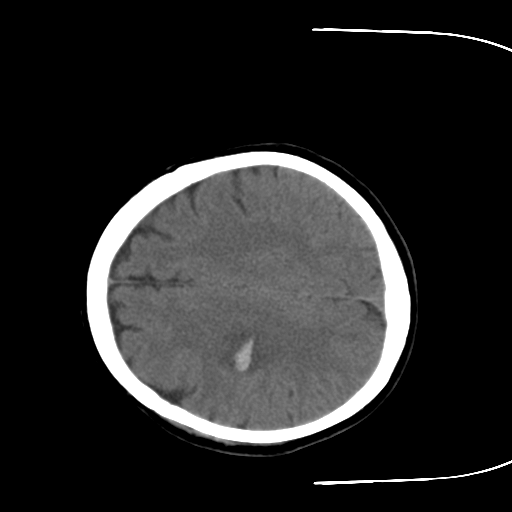a: (203, 315, 282, 387)
